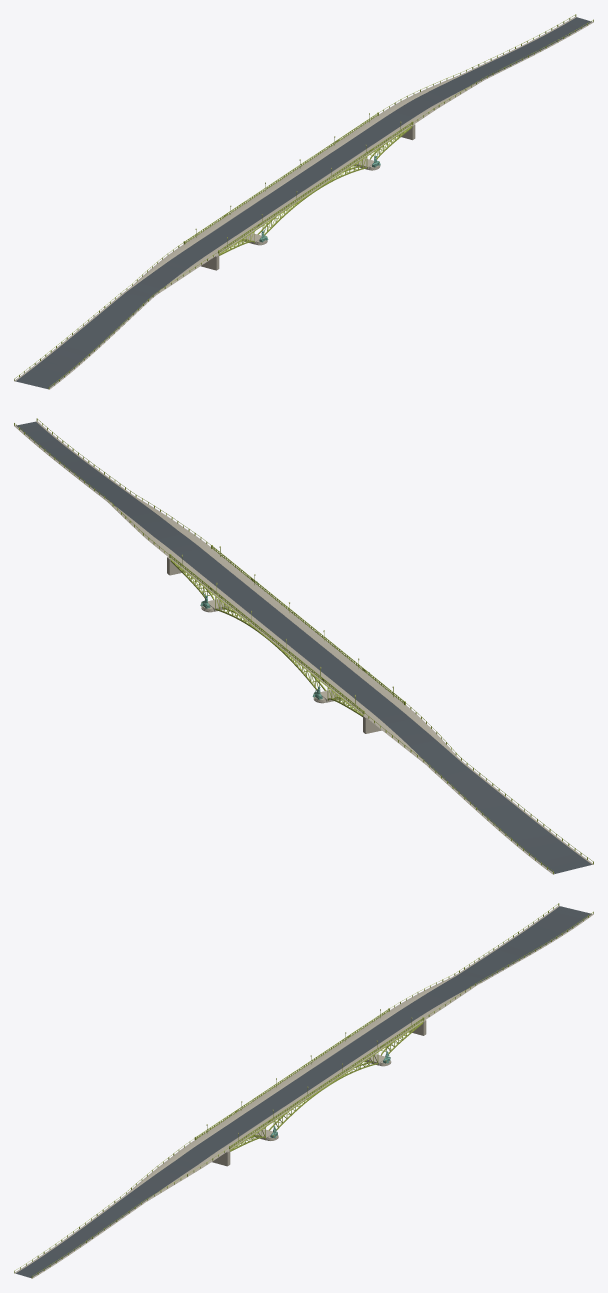
The model's file is pont-mirabeau-near.glb.
3 views of the same model, one above another, from view 1: azimuth 90°, elevation 25°; view 2: azimuth 150°, elevation 25°; view 3: azimuth 270°, elevation 25° (orthographic). The views are drawn at different scales.
Parts seen in each view (by area): view 1: pont-mirabeau-0-asphalt, pont-mirabeau-0-walkway, pont-mirabeau-0-steel, pont-mirabeau-0-stone; view 2: pont-mirabeau-0-asphalt, pont-mirabeau-0-walkway, pont-mirabeau-0-steel, pont-mirabeau-0-stone; view 3: pont-mirabeau-0-asphalt, pont-mirabeau-0-walkway, pont-mirabeau-0-steel, pont-mirabeau-0-stone.
Boxes of the visible parts, x1=… form: pont-mirabeau-0-asphalt: x1=16, y1=17, x2=591, y2=388; pont-mirabeau-0-walkway: x1=14, y1=16, x2=593, y2=389; pont-mirabeau-0-steel: x1=14, y1=14, x2=593, y2=389; pont-mirabeau-0-stone: x1=201, y1=124, x2=415, y2=270; pont-mirabeau-0-asphalt: x1=16, y1=421, x2=591, y2=873; pont-mirabeau-0-walkway: x1=14, y1=421, x2=593, y2=874; pont-mirabeau-0-steel: x1=14, y1=418, x2=593, y2=874; pont-mirabeau-0-stone: x1=167, y1=557, x2=381, y2=733; pont-mirabeau-0-asphalt: x1=16, y1=906, x2=591, y2=1277; pont-mirabeau-0-walkway: x1=14, y1=905, x2=593, y2=1278; pont-mirabeau-0-steel: x1=14, y1=903, x2=593, y2=1278; pont-mirabeau-0-stone: x1=212, y1=1020, x2=426, y2=1166.
Bounding box in the file's own units: 423 × 13.03 × 278.
